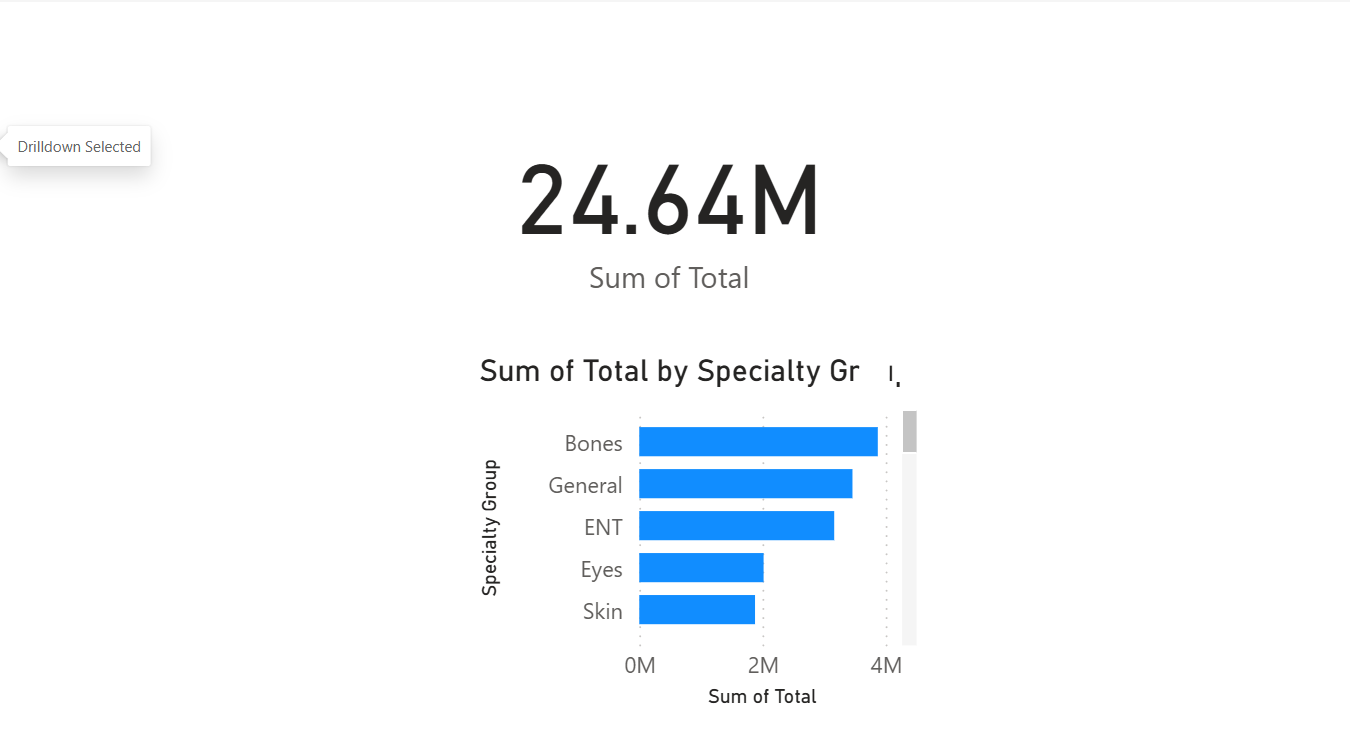

What the dashboard file says about the page in this screenshot:
{"tool":"powerbi","page":{"name":"Drilldown","canvas":[320,400],"ordinal":2},"visuals":[{"type":"barChart","fields":{"Category":["Mapping_Specialty.Specialty Group"],"Y":["Sum(All_Data.Total)"]},"box":[48,192,250,200],"z":0},{"type":"card","fields":{"Values":["Sum(All_Data.Total)"]},"box":[32,32,250,160],"z":1000}]}

Visuals, with their boxes on the page's 320x400 design canvas (x1, y1, x2, y2). These are canvas units, not pixel positions in the 1350x730 screenshot, which may show the page scaled, cropped or inside an application window:
barChart - Mapping_Specialty.Specialty Group x Sum(All_Data.Total): {"left": 48, "top": 192, "right": 298, "bottom": 392}
card - Sum(All_Data.Total): {"left": 32, "top": 32, "right": 282, "bottom": 192}
